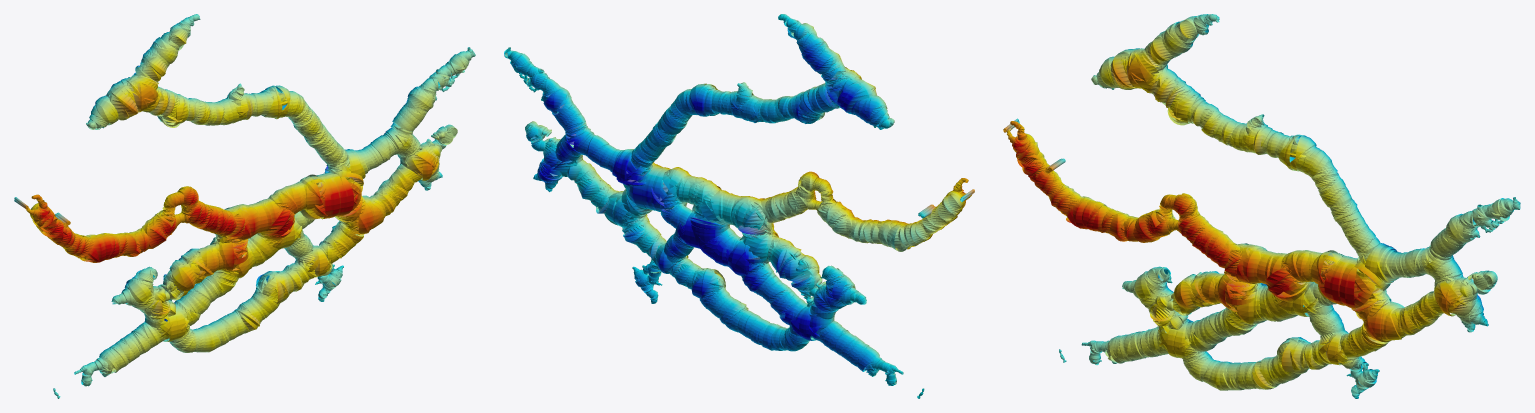
Rendered from mine_network.glb.
The picture shows the model from 3 angles, left to right: view 1: azimuth 30°, elevation 25°; view 2: azimuth 150°, elevation 25°; view 3: azimuth 330°, elevation 25°; orthographic projection. The views are drawn at different scales.
Visible parts, largest first — view 1: world; view 2: world; view 3: world.
Part boxes in pixels (box(x1,y1,x2,y2)): world: box(14, 14, 475, 398); world: box(504, 14, 974, 398); world: box(1003, 14, 1520, 398).
Size of the model in its own units: 1460 by 1064 by 146.
